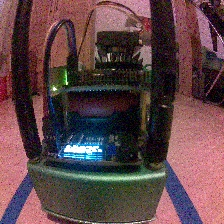rob: (26, 30, 167, 224)
